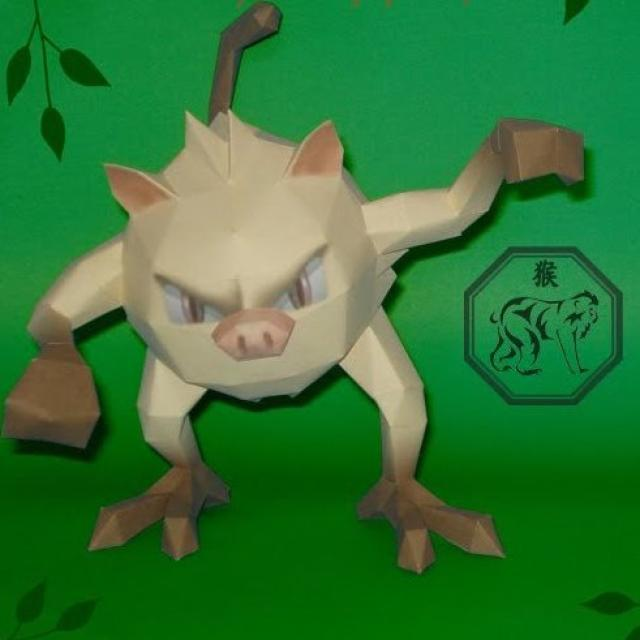Mankey: (42, 36, 452, 531)
